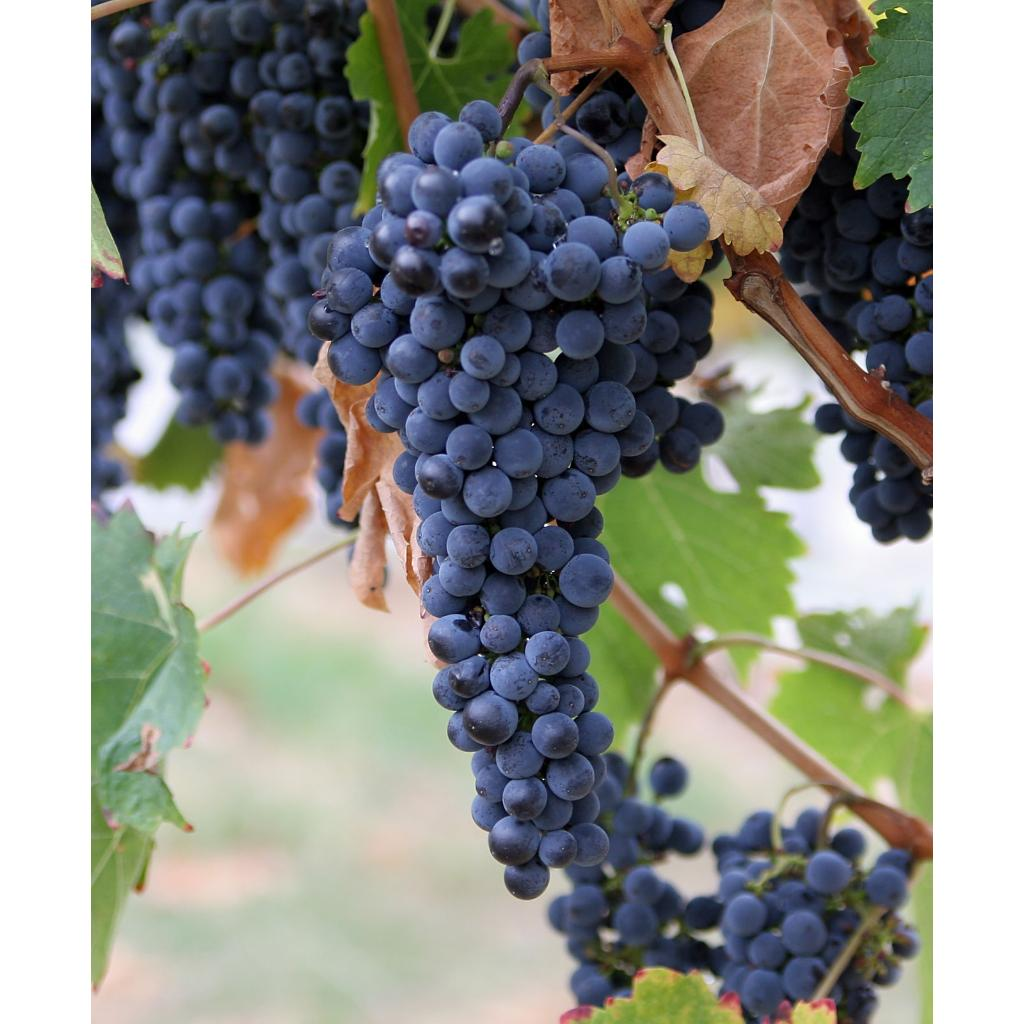grape: (91, 0, 932, 1023), (308, 100, 723, 897), (91, 0, 367, 481), (548, 753, 920, 1023), (91, 509, 203, 976), (780, 143, 932, 415), (814, 403, 932, 542), (92, 300, 132, 401)
